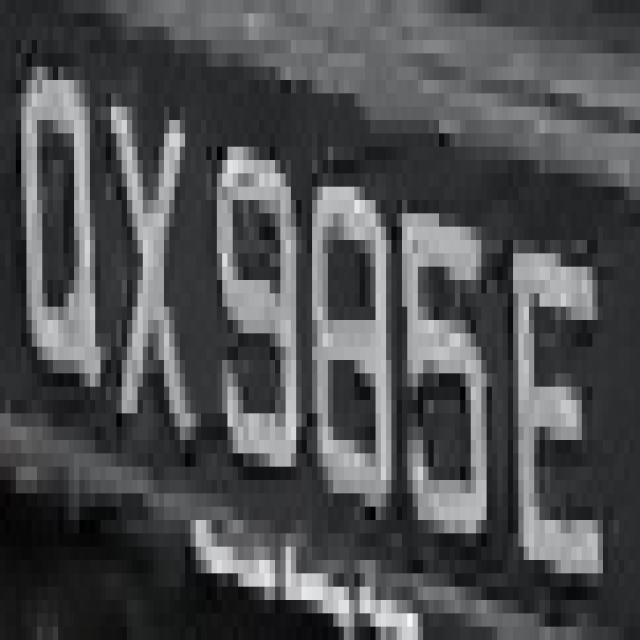5: (407, 147, 497, 560)
8: (301, 120, 402, 573)
9: (212, 94, 306, 534)
E: (497, 200, 608, 613)
Q: (5, 27, 111, 400)
X: (85, 27, 206, 453)
